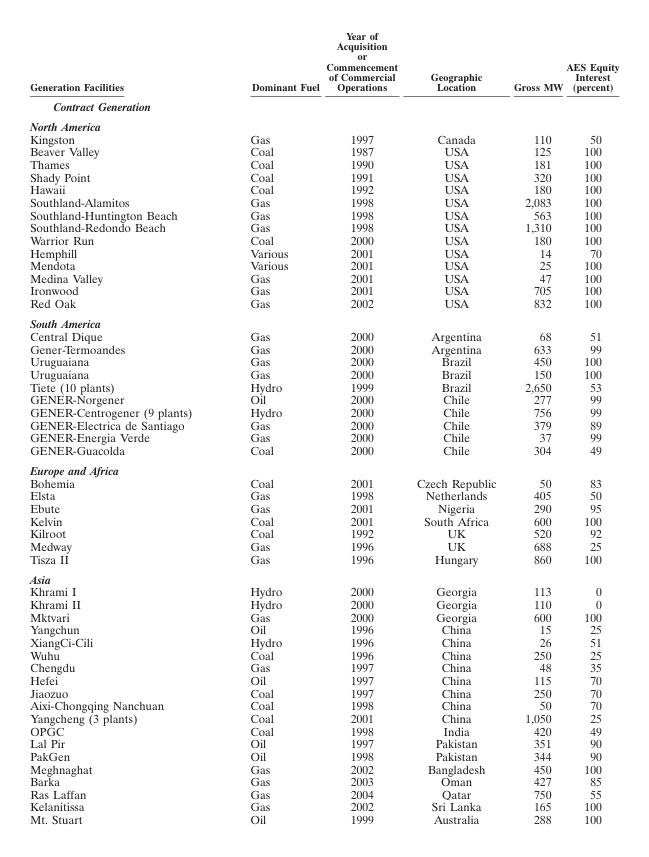table: (29, 28, 618, 825)
table column: (29, 28, 220, 825), (220, 28, 322, 825), (406, 28, 504, 825), (322, 28, 406, 825), (504, 28, 563, 825), (563, 28, 618, 825)
table column header: (29, 28, 618, 95)
table projected row header: (29, 95, 618, 115), (29, 115, 618, 132), (29, 459, 618, 476), (29, 313, 618, 329), (29, 568, 618, 584)
table row: (29, 28, 618, 95), (29, 95, 618, 115), (29, 115, 618, 132), (29, 296, 618, 313), (29, 459, 618, 476), (29, 313, 618, 329), (29, 443, 618, 459), (29, 552, 618, 568), (29, 568, 618, 584), (29, 132, 618, 145), (29, 157, 618, 170), (29, 182, 618, 195), (29, 195, 618, 208), (29, 220, 618, 233), (29, 233, 618, 246), (29, 258, 618, 271), (29, 271, 618, 284), (29, 329, 618, 342), (29, 354, 618, 367), (29, 367, 618, 380), (29, 392, 618, 405), (29, 405, 618, 418), (29, 430, 618, 443), (29, 488, 618, 501), (29, 501, 618, 514), (29, 526, 618, 539), (29, 539, 618, 552), (29, 584, 618, 597), (29, 597, 618, 610), (29, 610, 618, 623), (29, 635, 618, 648), (29, 660, 618, 673), (29, 673, 618, 686), (29, 698, 618, 711), (29, 711, 618, 724), (29, 736, 618, 749), (29, 749, 618, 762), (29, 774, 618, 787), (29, 787, 618, 800), (29, 812, 618, 825), (29, 145, 618, 157), (29, 170, 618, 182), (29, 208, 618, 220), (29, 246, 618, 258), (29, 284, 618, 296), (29, 342, 618, 354), (29, 380, 618, 392), (29, 418, 618, 430), (29, 476, 618, 488), (29, 514, 618, 526), (29, 623, 618, 635), (29, 648, 618, 660), (29, 686, 618, 698), (29, 724, 618, 736), (29, 762, 618, 774), (29, 800, 618, 812)
